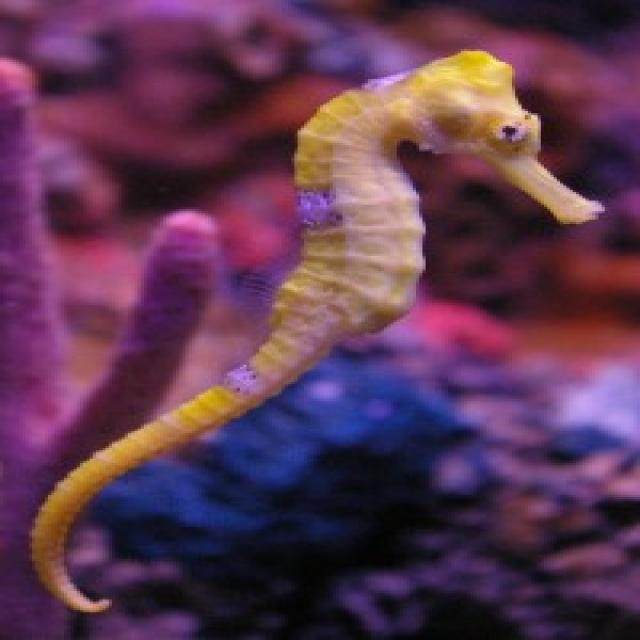Seahorse: (18, 43, 610, 619)
